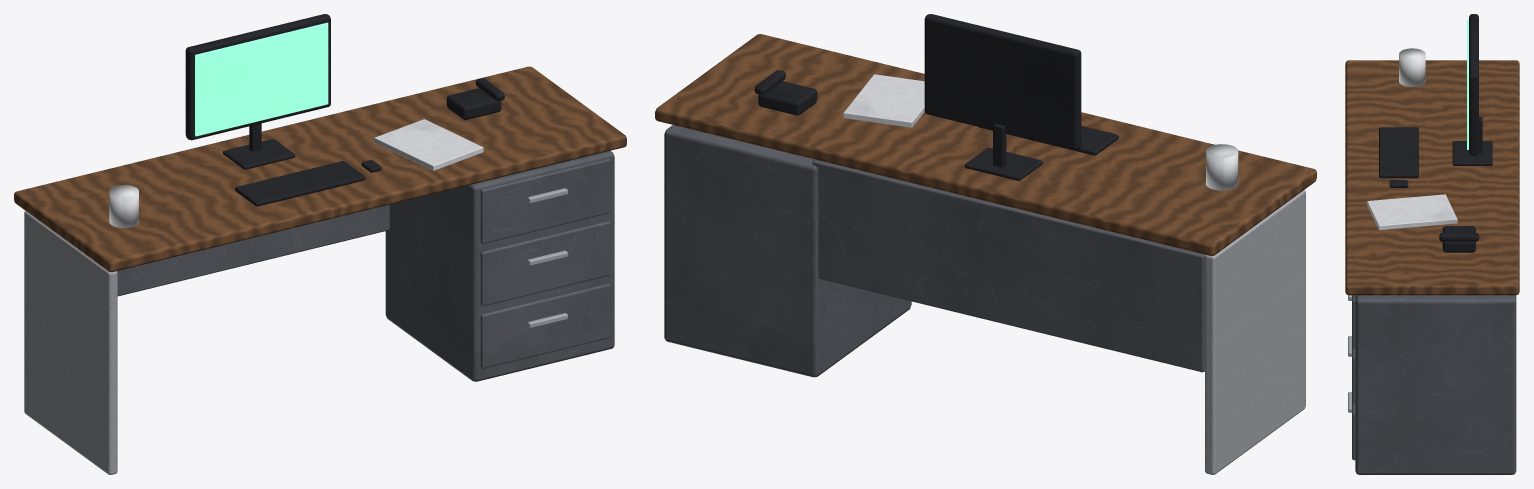
The model's file is OfficeDesk.glb.
The picture shows the model from 3 angles, left to right: view 1: azimuth 30°, elevation 25°; view 2: azimuth 150°, elevation 25°; view 3: azimuth 270°, elevation 25°; orthographic projection. The views are drawn at different scales.
Parts seen in each view (by area): view 1: OfficeDesk_MetalGrey, OfficeDesk_Wood, OfficeDesk_Steel, OfficeDesk_PlasticDark_glow, OfficeDesk_PlasticDark, OfficeDesk_PlasticWhite; view 2: OfficeDesk_MetalGrey, OfficeDesk_Wood, OfficeDesk_Steel, OfficeDesk_PlasticDark, OfficeDesk_PlasticWhite; view 3: OfficeDesk_Wood, OfficeDesk_MetalGrey, OfficeDesk_PlasticDark, OfficeDesk_PlasticWhite, OfficeDesk_PlasticDark_glow.
Boxes of the visible parts, x1,y1,x2,y2 form: OfficeDesk_MetalGrey: [117, 150, 614, 381]; OfficeDesk_Wood: [14, 66, 626, 272]; OfficeDesk_Steel: [24, 188, 567, 474]; OfficeDesk_PlasticDark_glow: [195, 22, 328, 136]; OfficeDesk_PlasticDark: [185, 14, 504, 206]; OfficeDesk_PlasticWhite: [109, 119, 483, 227]; OfficeDesk_MetalGrey: [664, 125, 1205, 377]; OfficeDesk_Wood: [655, 34, 1316, 255]; OfficeDesk_Steel: [1205, 190, 1305, 474]; OfficeDesk_PlasticDark: [754, 14, 1118, 180]; OfficeDesk_PlasticWhite: [843, 74, 1238, 190]; OfficeDesk_Wood: [1345, 60, 1519, 295]; OfficeDesk_MetalGrey: [1352, 295, 1516, 474]; OfficeDesk_PlasticDark: [1379, 14, 1492, 252]; OfficeDesk_PlasticWhite: [1367, 48, 1457, 230]; OfficeDesk_PlasticDark_glow: [1467, 19, 1468, 149].
Bounding box in the file's own units: 8 × 5.07 × 2.6.
Materials: 6 (6 with a texture image).
